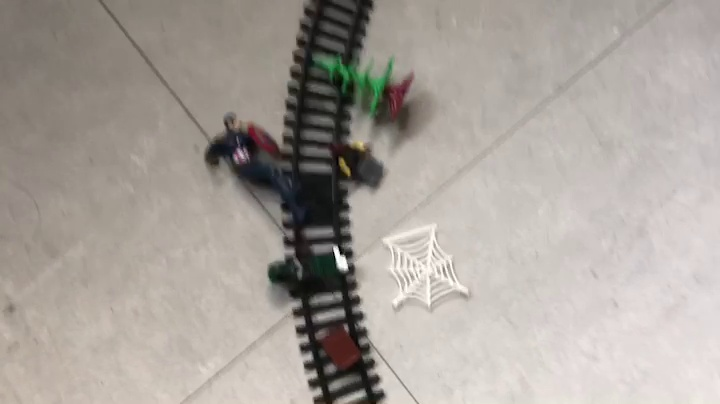box: (320, 324, 363, 374)
people: (208, 112, 310, 225), (266, 245, 352, 297), (323, 138, 389, 189)
tree: (308, 50, 420, 130)
web: (381, 223, 471, 312)
